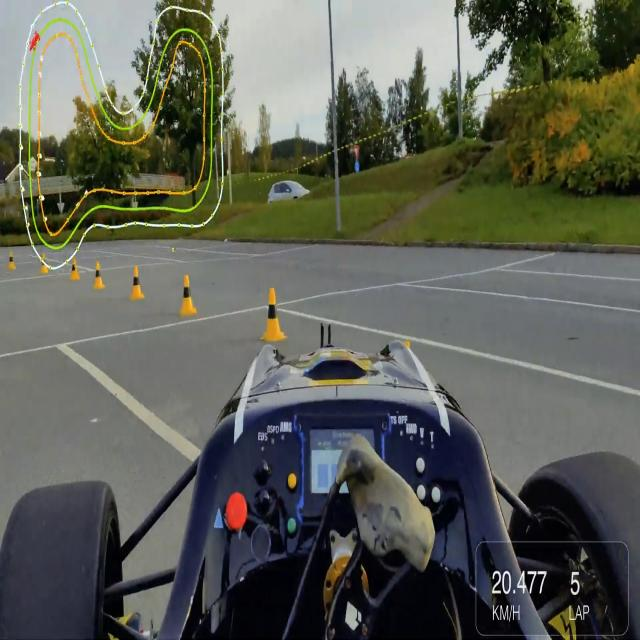yellow_cone: (259, 281, 289, 346), (177, 267, 199, 322), (128, 263, 146, 303), (92, 257, 106, 291), (70, 257, 81, 281), (6, 250, 16, 271), (41, 254, 48, 275), (404, 333, 412, 348)
